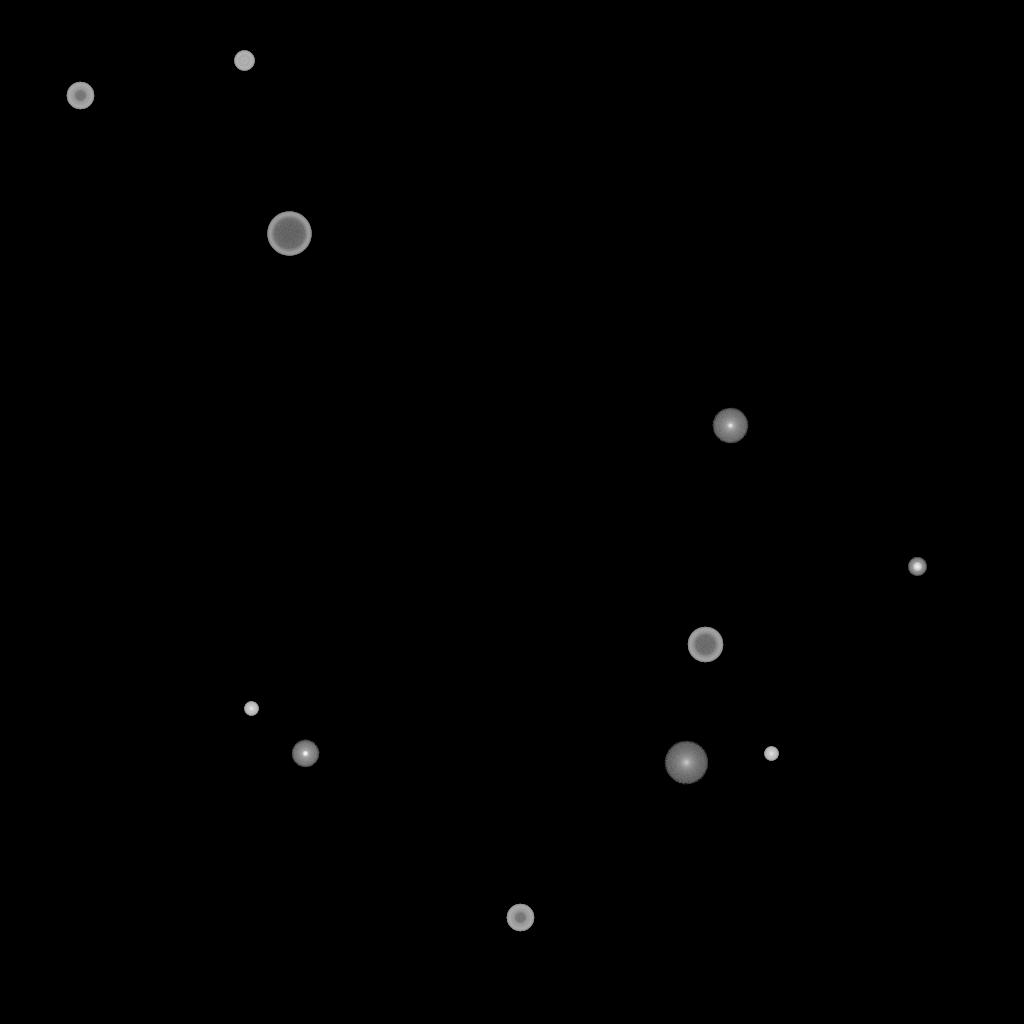depth:-10: (291, 740, 319, 768)
depth:-20: (908, 558, 926, 576)
depth:-30: (244, 702, 258, 716), (764, 747, 778, 761)
depth:-40: (234, 51, 254, 71)
depth:-50: (506, 904, 534, 932), (66, 82, 94, 110)
depth:-60: (687, 627, 723, 663)
depth:-70: (267, 212, 311, 256)
depth:0: (712, 408, 748, 444)
depth:10: (664, 741, 708, 785)
